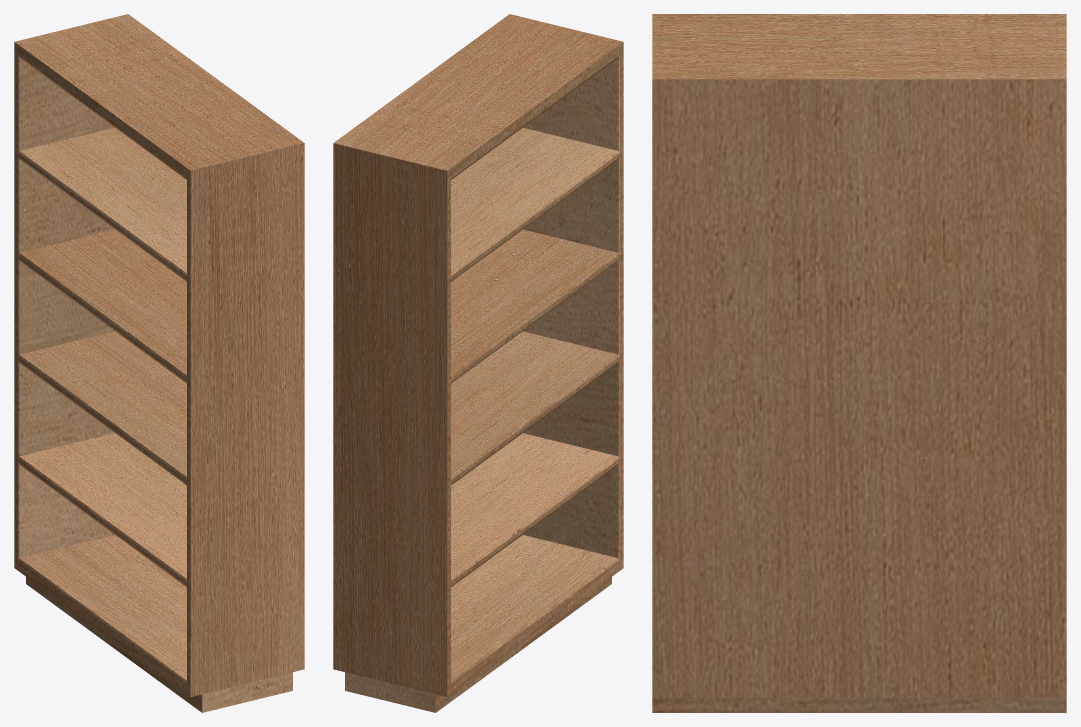
The model's file is Shelf5x1Mid.fbx.
The picture shows the model from 3 angles, left to right: view 1: azimuth 30°, elevation 25°; view 2: azimuth 150°, elevation 25°; view 3: azimuth 270°, elevation 25°; orthographic projection. The views are drawn at different scales.
Parts seen in each view (by area): view 1: Shelf5x1Mid; view 2: Shelf5x1Mid; view 3: Shelf5x1Mid.
Boxes of the visible parts, <box> form: Shelf5x1Mid: <box>14,14,304,712</box>; Shelf5x1Mid: <box>333,14,623,712</box>; Shelf5x1Mid: <box>652,14,1066,712</box>.
Bounding box in the file's own units: 127 × 580 × 340.
